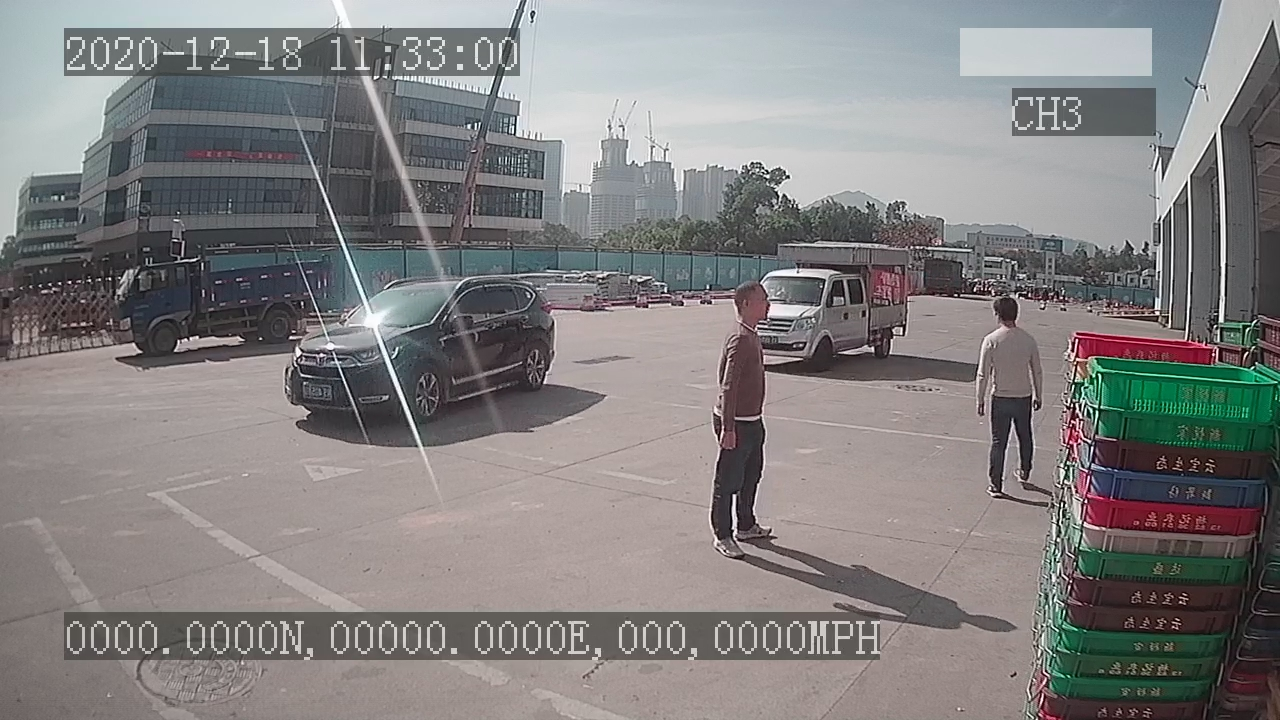person: (977, 293, 1047, 495)
